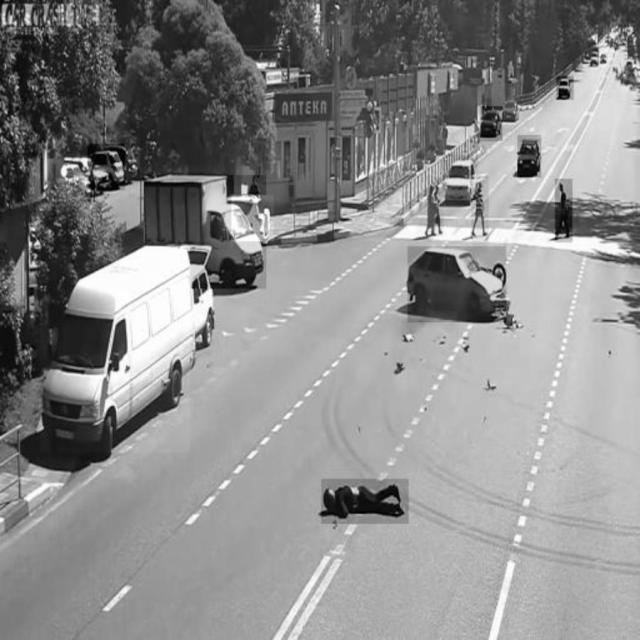person: (322, 479, 410, 524), (556, 179, 573, 243), (472, 177, 489, 241), (427, 178, 444, 236)
vehicle: (40, 246, 191, 452), (144, 176, 266, 289), (408, 247, 506, 323), (232, 196, 274, 242), (443, 156, 478, 206), (88, 144, 125, 190), (517, 136, 541, 178), (481, 106, 503, 141), (500, 98, 520, 122), (557, 76, 574, 100)
